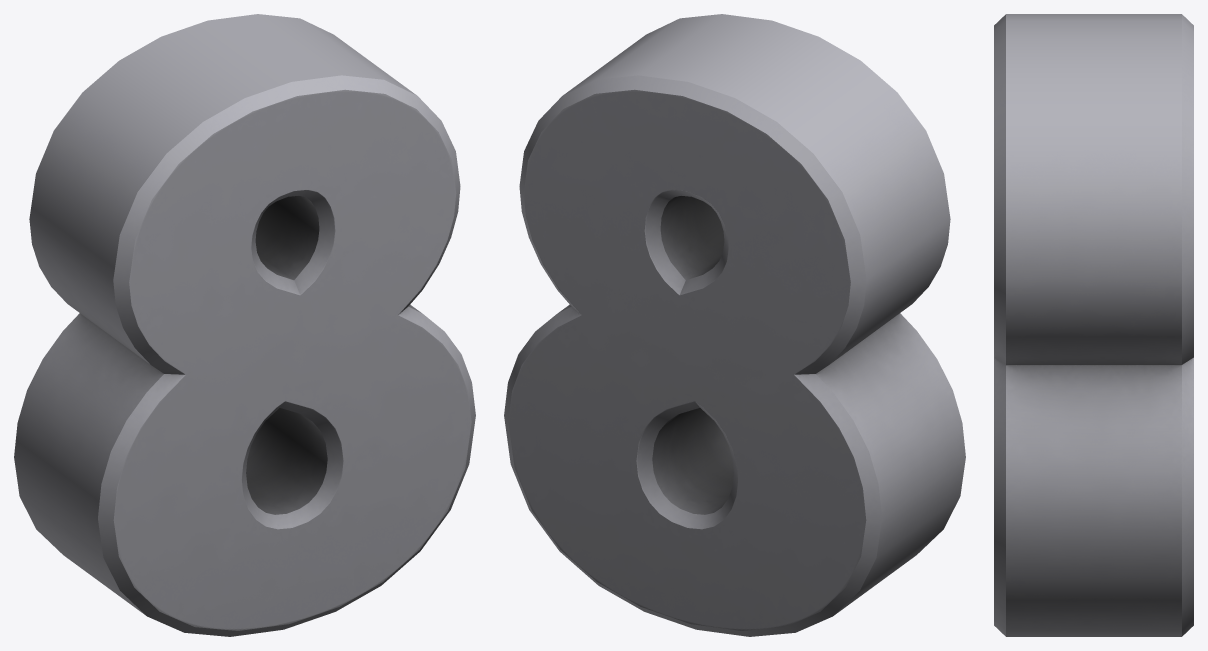
The model's file is 8_static.fbx.
3 renders of one model, left to right at view 1: azimuth 30°, elevation 25°; view 2: azimuth 150°, elevation 25°; view 3: azimuth 270°, elevation 25°, orthographic. The views are drawn at different scales.
Parts seen in each view (by area): view 1: 8_static; view 2: 8_static; view 3: 8_static.
Boxes of the visible parts, x1,y1,x2,y2 form: 8_static: (14,14,475,636); 8_static: (504,14,965,636); 8_static: (994,14,1193,636).
Size of the model in its own units: 75.51 by 104 by 33.
